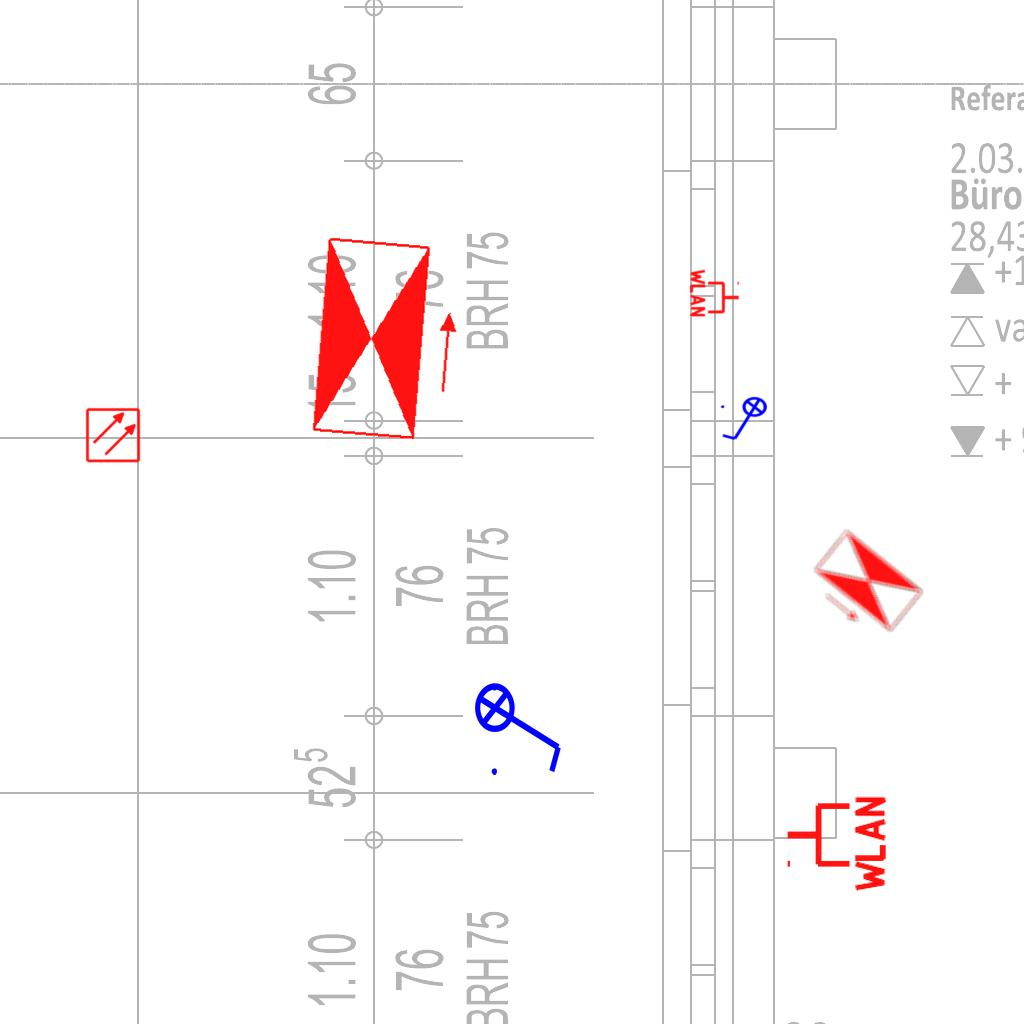Ausschalter_beleuchtet: (473, 669, 569, 781), (718, 396, 774, 444)
Fluchtwegpiktogramm: (305, 229, 470, 451), (800, 525, 927, 649)
RMO_Rauchmelder_optischer: (85, 407, 141, 463)
WLAN: (783, 792, 888, 896), (689, 267, 741, 319)
